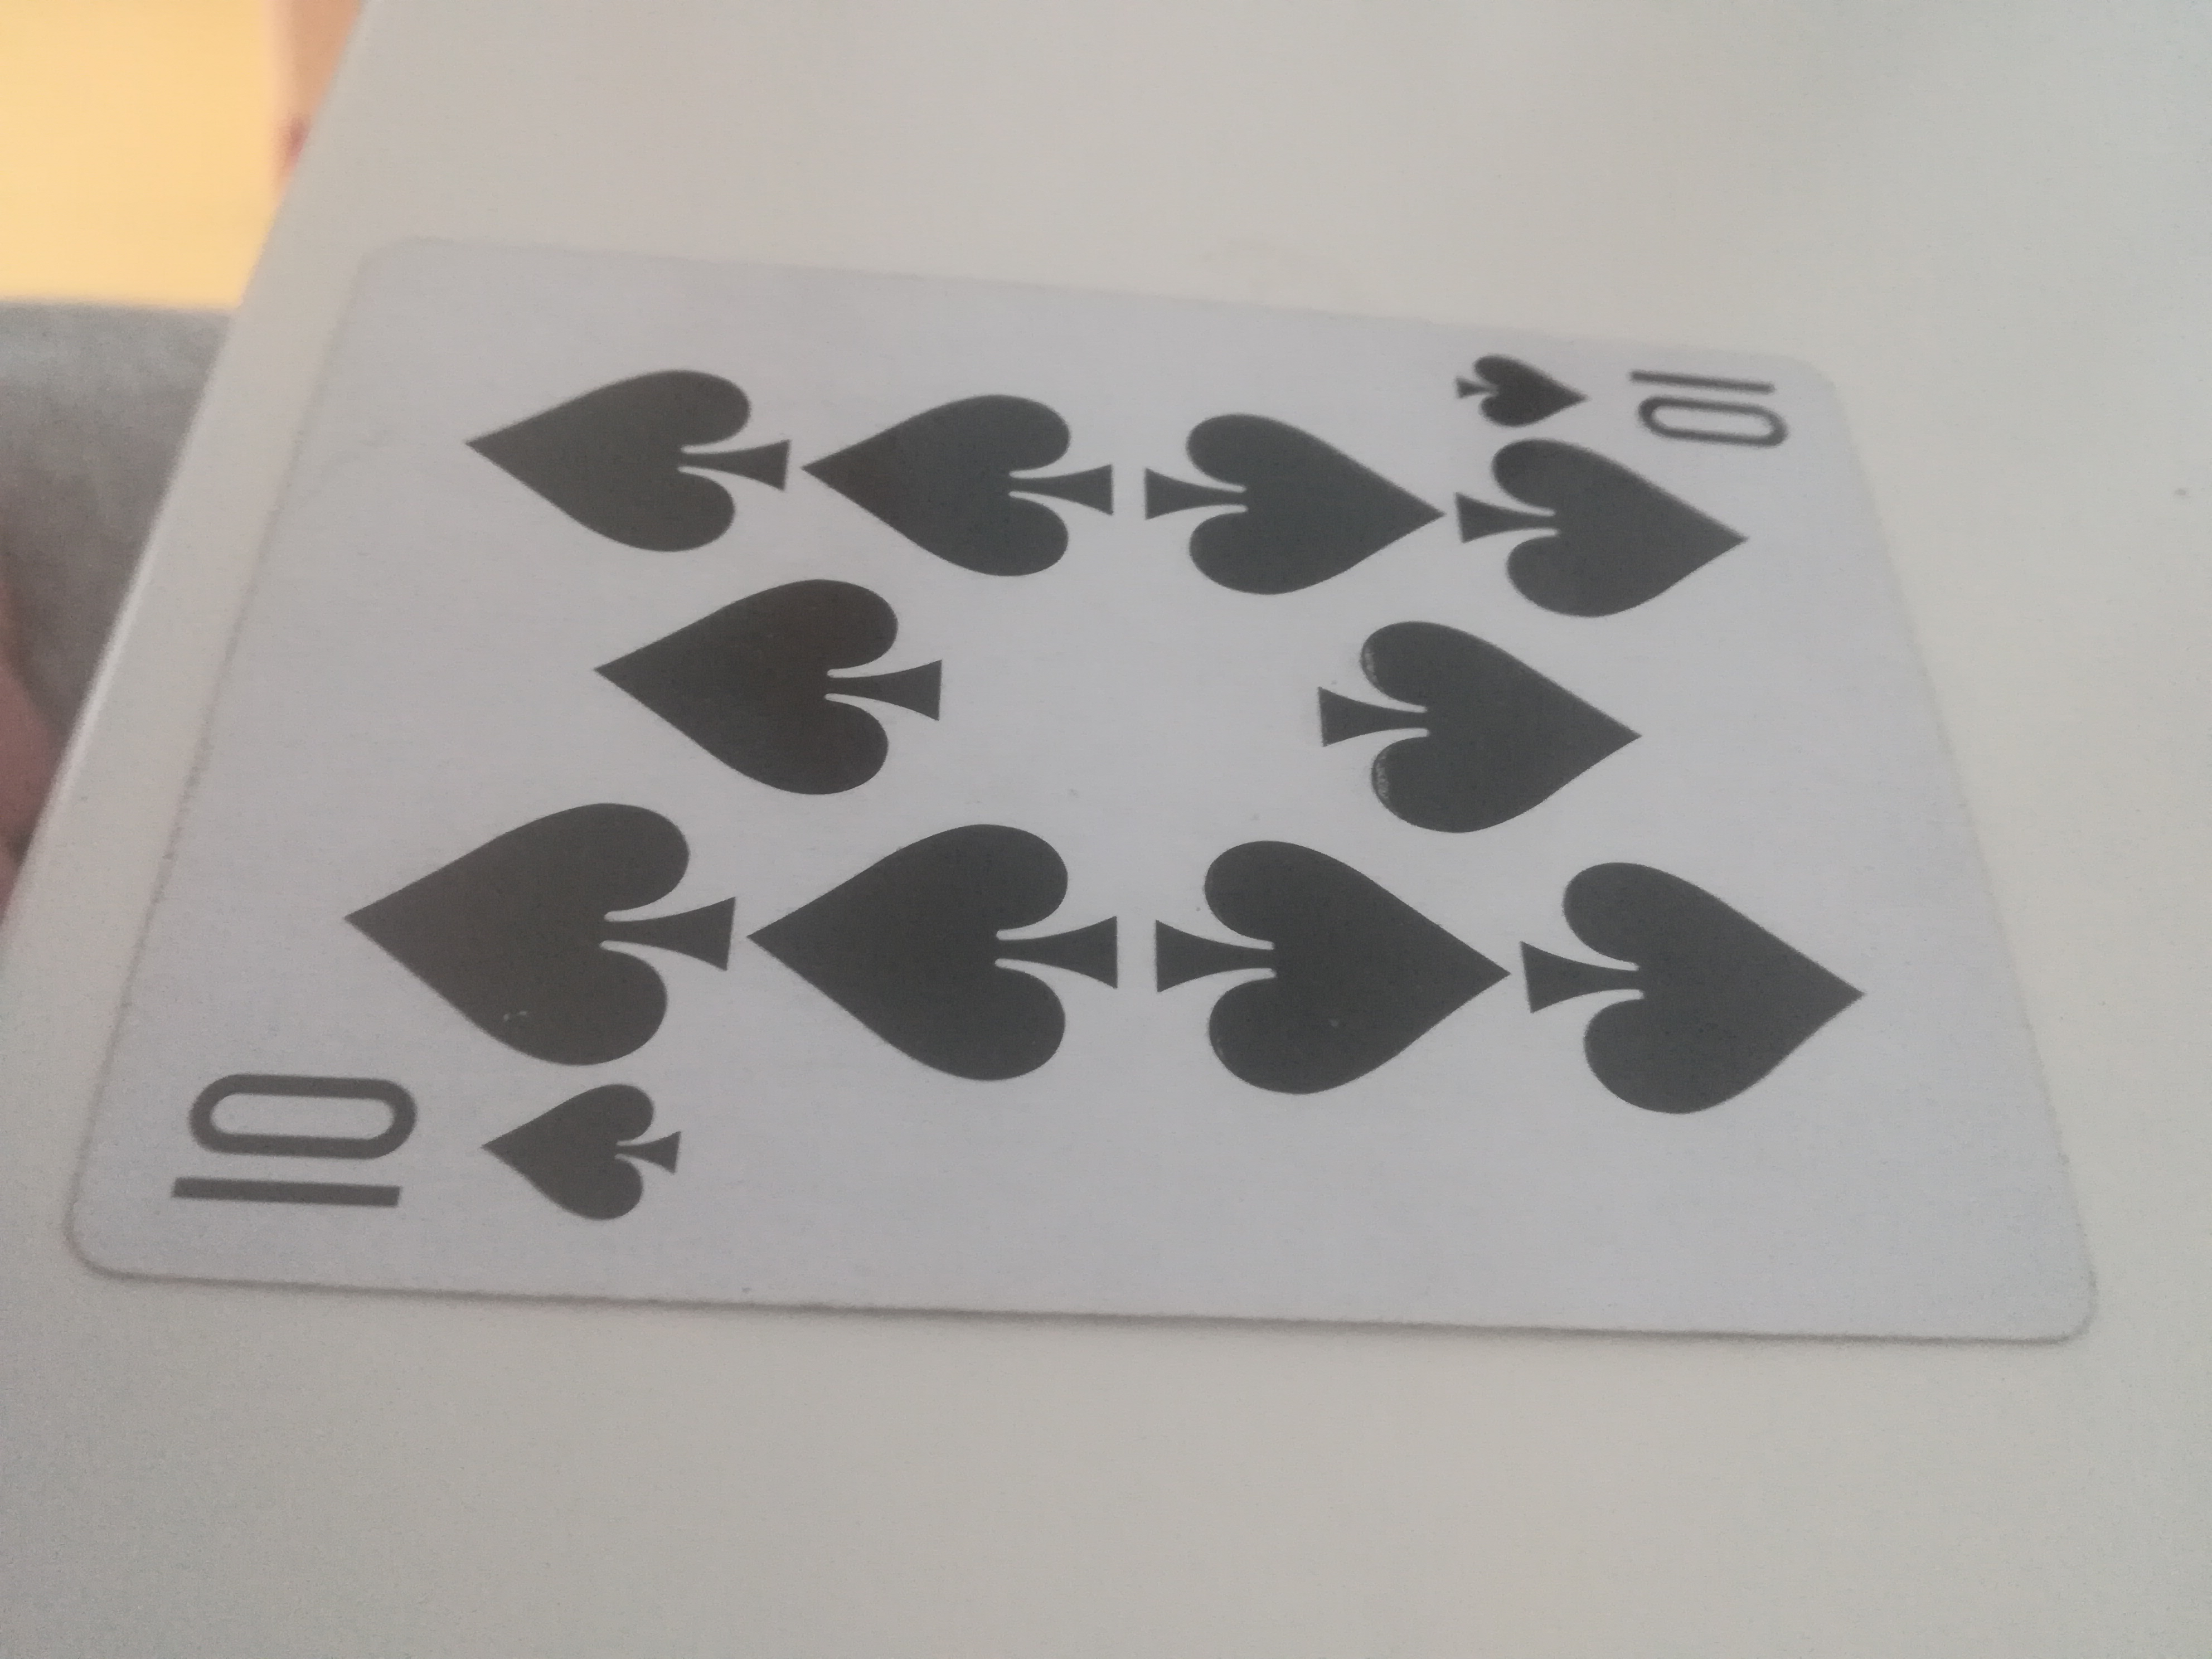10S: (68, 221, 2116, 1354)
